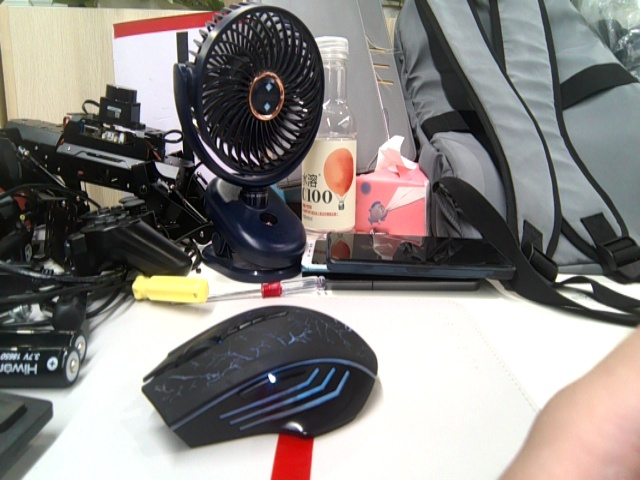mouse: (140, 310, 388, 430)
